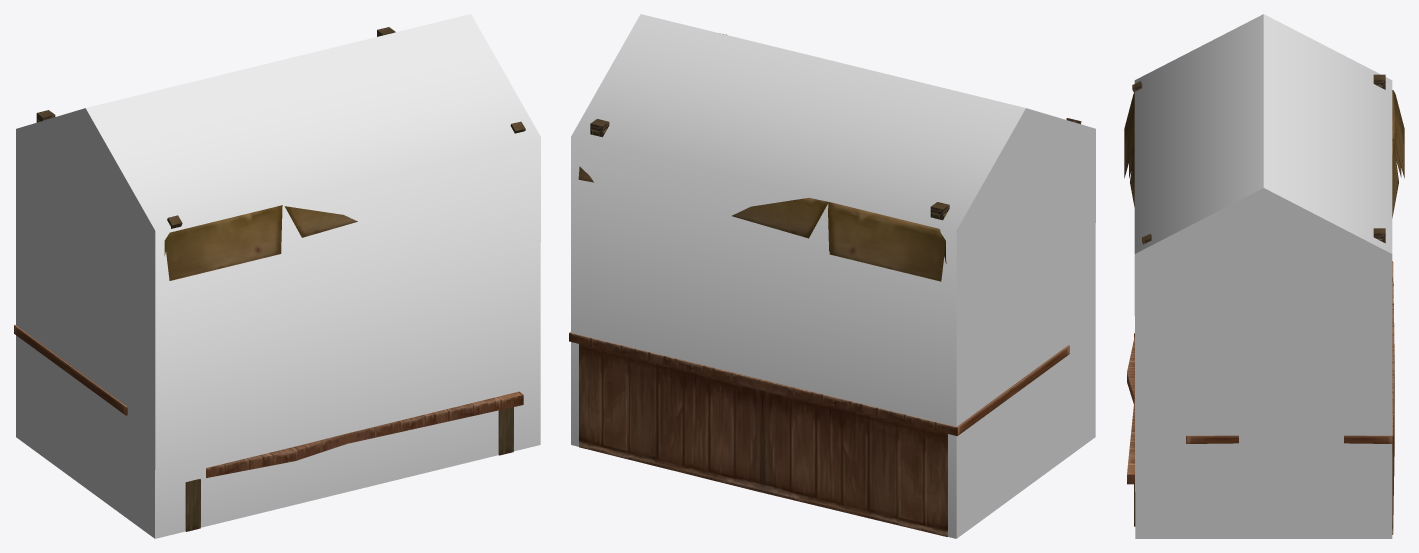
File: YHJ_baozitan_a.FBX
3 views of the same model, side by side, from view 1: azimuth 30°, elevation 25°; view 2: azimuth 150°, elevation 25°; view 3: azimuth 270°, elevation 25° (orthographic). The views are drawn at different scales.
Parts seen in each view (by area): view 1: YHJ_baozitan_a-col, YHJ_baozitan_a; view 2: YHJ_baozitan_a-col, YHJ_baozitan_a; view 3: YHJ_baozitan_a-col, YHJ_baozitan_a.
Boxes of the visible parts, x1=… form: YHJ_baozitan_a-col: x1=16, y1=14, x2=540, y2=538; YHJ_baozitan_a: x1=14, y1=27, x2=525, y2=531; YHJ_baozitan_a-col: x1=571, y1=14, x2=1095, y2=538; YHJ_baozitan_a: x1=569, y1=34, x2=1081, y2=536; YHJ_baozitan_a-col: x1=1134, y1=14, x2=1392, y2=538; YHJ_baozitan_a: x1=1124, y1=74, x2=1404, y2=534.
Bounding box in the file's own units: 3.69 × 3.45 × 2.49.
